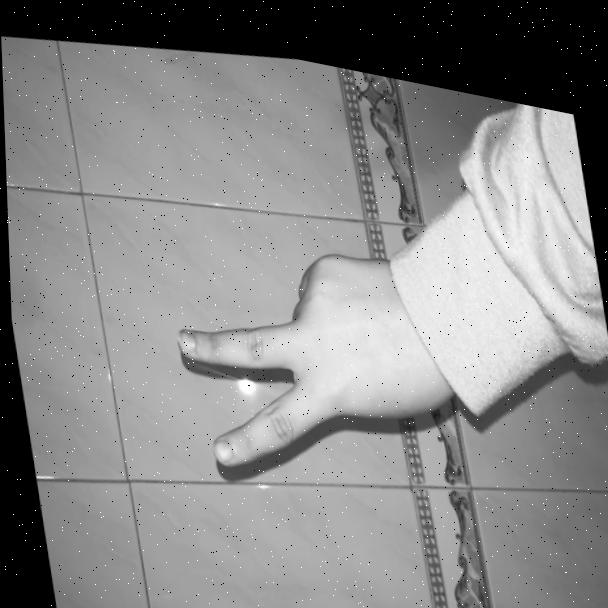two: (151, 192, 460, 514)
